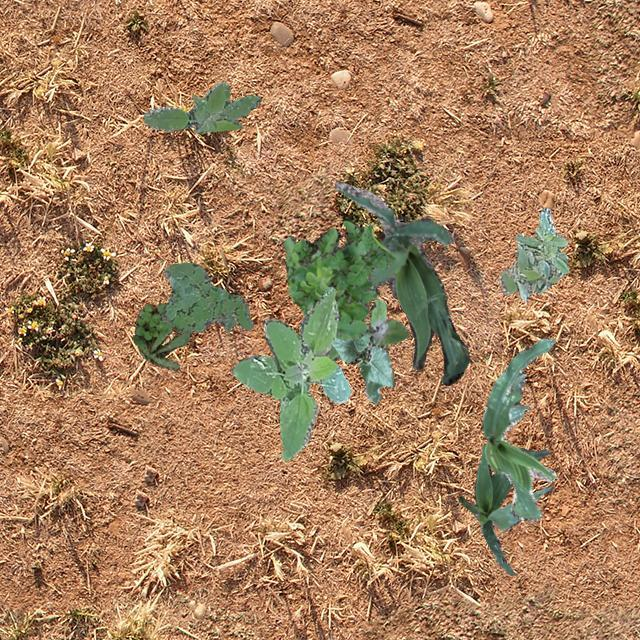crop: (334, 180, 468, 384), (481, 337, 556, 520), (458, 444, 552, 574), (331, 332, 394, 386)
weed: (230, 286, 350, 459), (282, 218, 394, 340), (322, 298, 408, 404), (498, 206, 568, 302), (160, 262, 252, 332), (143, 80, 260, 132), (132, 302, 188, 370)
